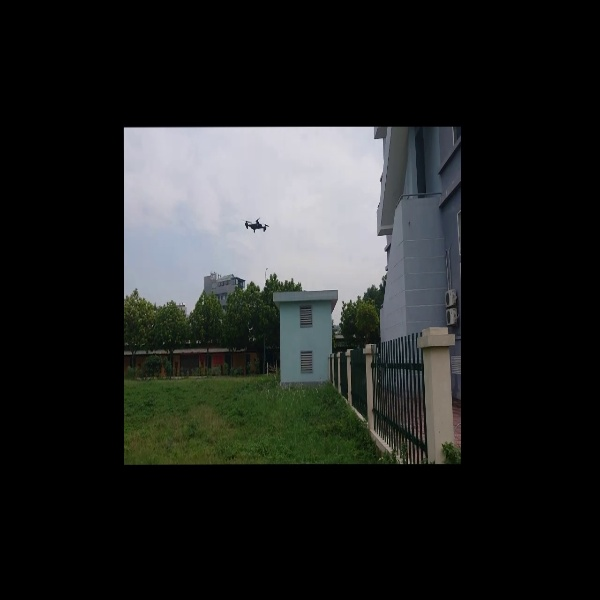drone: (235, 204, 278, 246)
